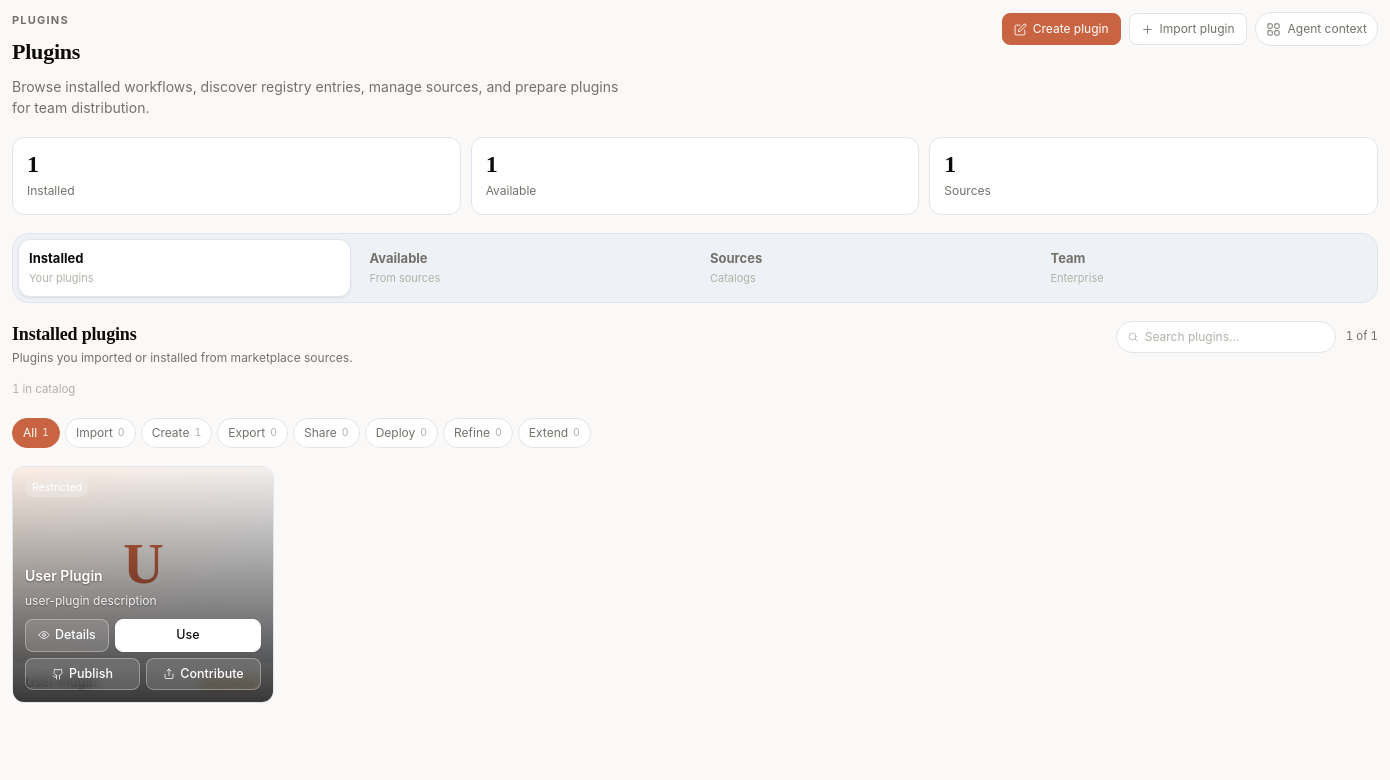
Test: PluginsView › shows installed plugins and available registry entries
Check: the heading "Installed plugins" is shown, box 12,324 -> 136,344
Check: the text "User Plugin" is shown, box 25,566 -> 103,584
Click the tab with test id "plugins-tab-available" at (399, 258), box 358,239 -> 691,297
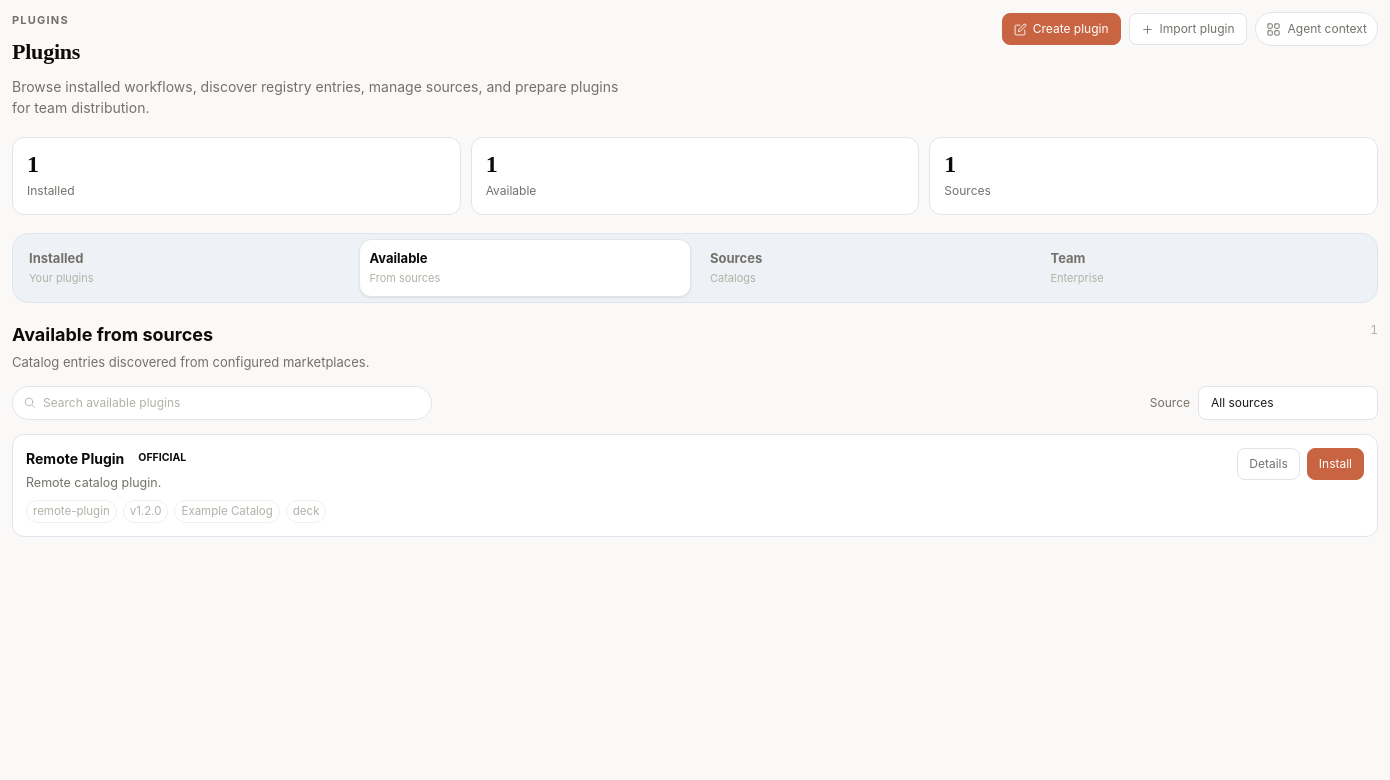
Check: the text "Remote Plugin" is shown, box 26,448 -> 124,469
